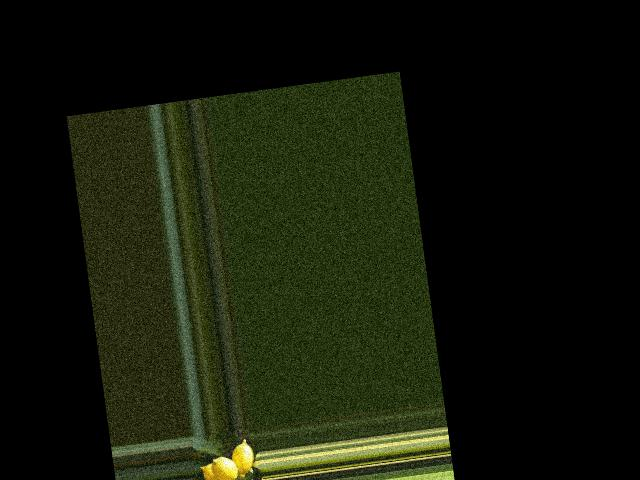lemon: (195, 456, 229, 480)
